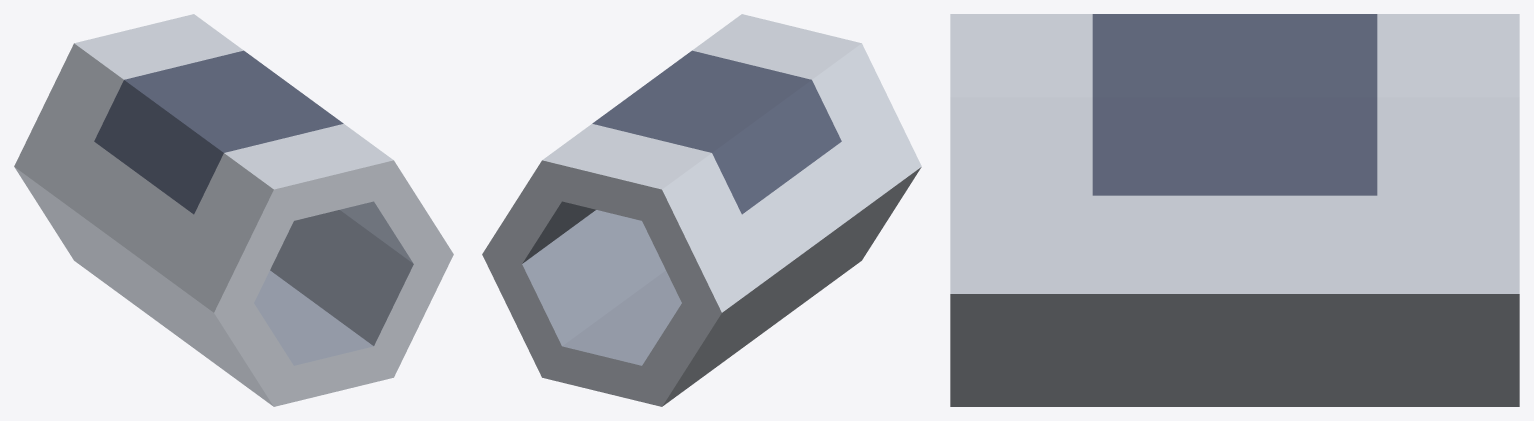
File: pipe_straight.glb
3 renders of one model, left to right at view 1: azimuth 30°, elevation 25°; view 2: azimuth 150°, elevation 25°; view 3: azimuth 270°, elevation 25°, orthographic. The views are drawn at different scales.
Parts seen in each view (by area): view 1: pipe_straight; view 2: pipe_straight; view 3: pipe_straight.
Part boxes in pixels (x1,y1,x2,y2): pipe_straight: [14, 14, 453, 406]; pipe_straight: [482, 14, 921, 406]; pipe_straight: [950, 14, 1519, 406].
Size of the model in its own units: 0.6928 by 0.6 by 1.
